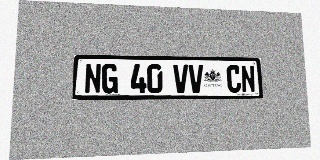0: (147, 64, 162, 93)
4: (131, 64, 146, 93)
C: (226, 65, 241, 93)
G: (101, 64, 118, 94)
N: (84, 63, 101, 94), (241, 65, 256, 93)
V: (188, 64, 204, 93), (173, 64, 188, 93)
